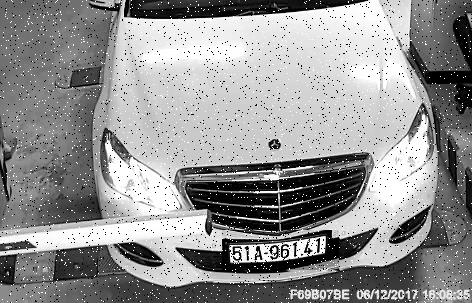License-plate: (224, 232, 342, 273)
